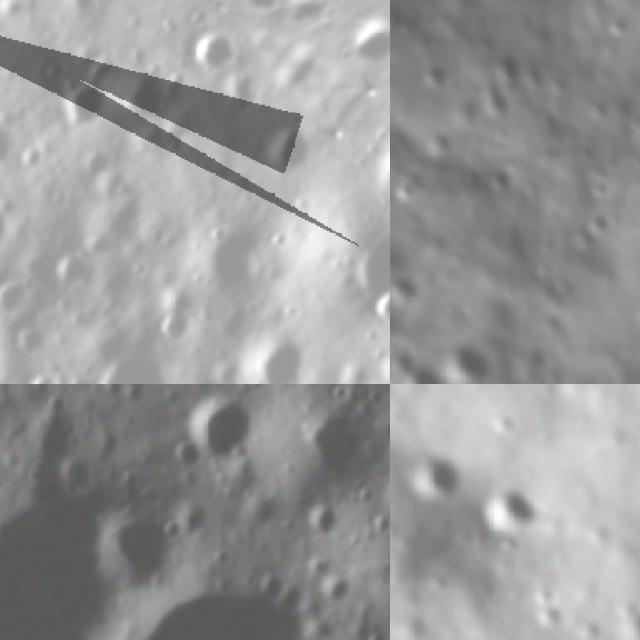crater: (183, 18, 257, 87), (236, 323, 319, 384), (180, 391, 254, 459), (50, 65, 120, 134), (256, 111, 322, 177), (83, 337, 172, 384), (288, 418, 359, 476), (431, 331, 502, 384), (482, 480, 542, 534), (154, 296, 208, 350), (390, 260, 435, 320), (404, 454, 465, 498), (470, 76, 518, 127), (361, 141, 390, 222), (484, 45, 532, 90), (0, 272, 37, 326), (410, 56, 456, 99), (395, 350, 452, 384), (168, 435, 204, 472), (160, 59, 194, 95), (316, 572, 352, 606), (368, 277, 390, 328), (308, 500, 340, 534), (0, 193, 18, 250), (18, 143, 50, 174), (22, 364, 68, 384), (0, 127, 21, 170), (493, 532, 522, 556), (157, 519, 183, 542), (210, 548, 233, 569), (382, 575, 390, 614), (362, 629, 386, 640)
